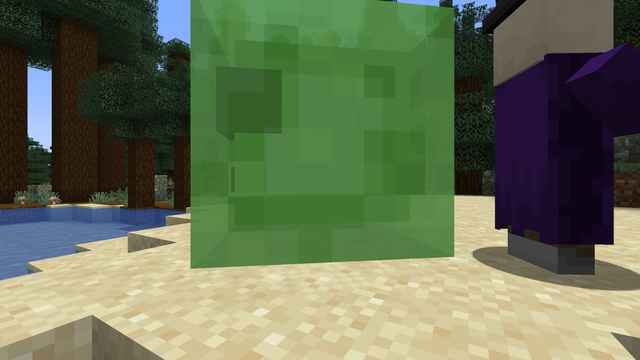slimes: (170, 9, 426, 285)
sorcieres: (493, 1, 625, 285)
